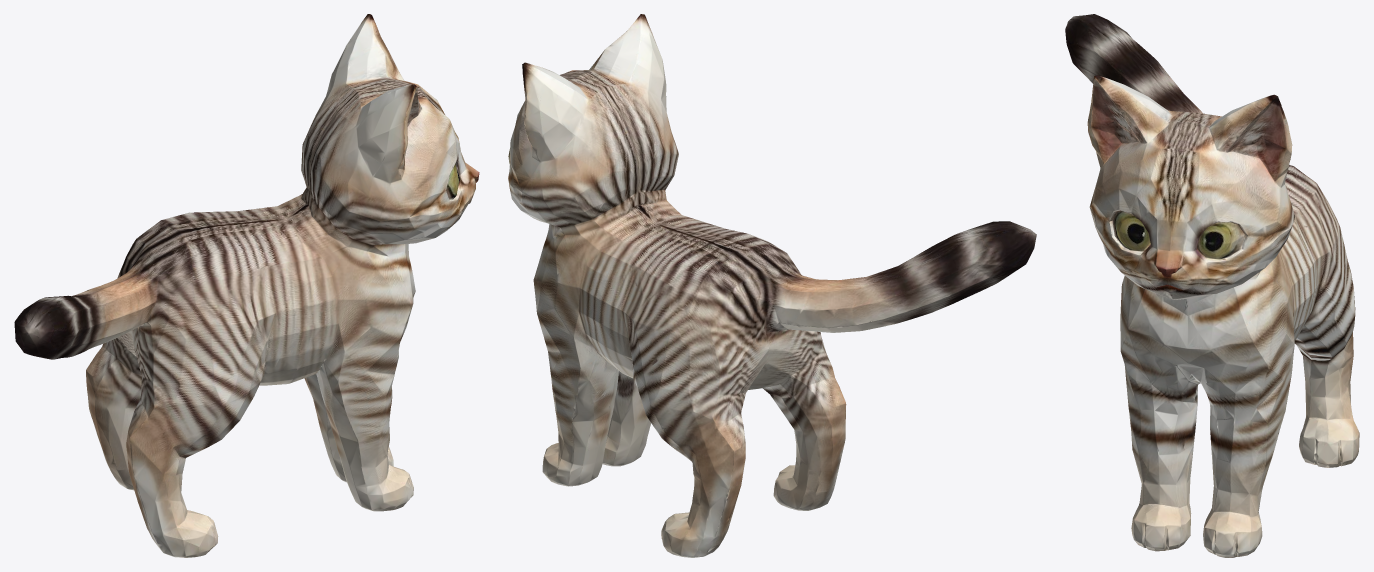
Rendered from RAFTERPAW.glb.
The picture shows the model from 3 angles, left to right: view 1: azimuth 30°, elevation 25°; view 2: azimuth 150°, elevation 25°; view 3: azimuth 270°, elevation 25°; orthographic projection. The views are drawn at different scales.
Visible parts, largest first — view 1: fit; view 2: fit; view 3: fit.
Part boxes in pixels (<box>): fit: <box>14,14,479,557</box>; fit: <box>508,14,1036,557</box>; fit: <box>1065,14,1359,557</box>.
Size of the model in its own units: 1.19 by 0.9999 by 0.5719.
1 material, 1 textured.
